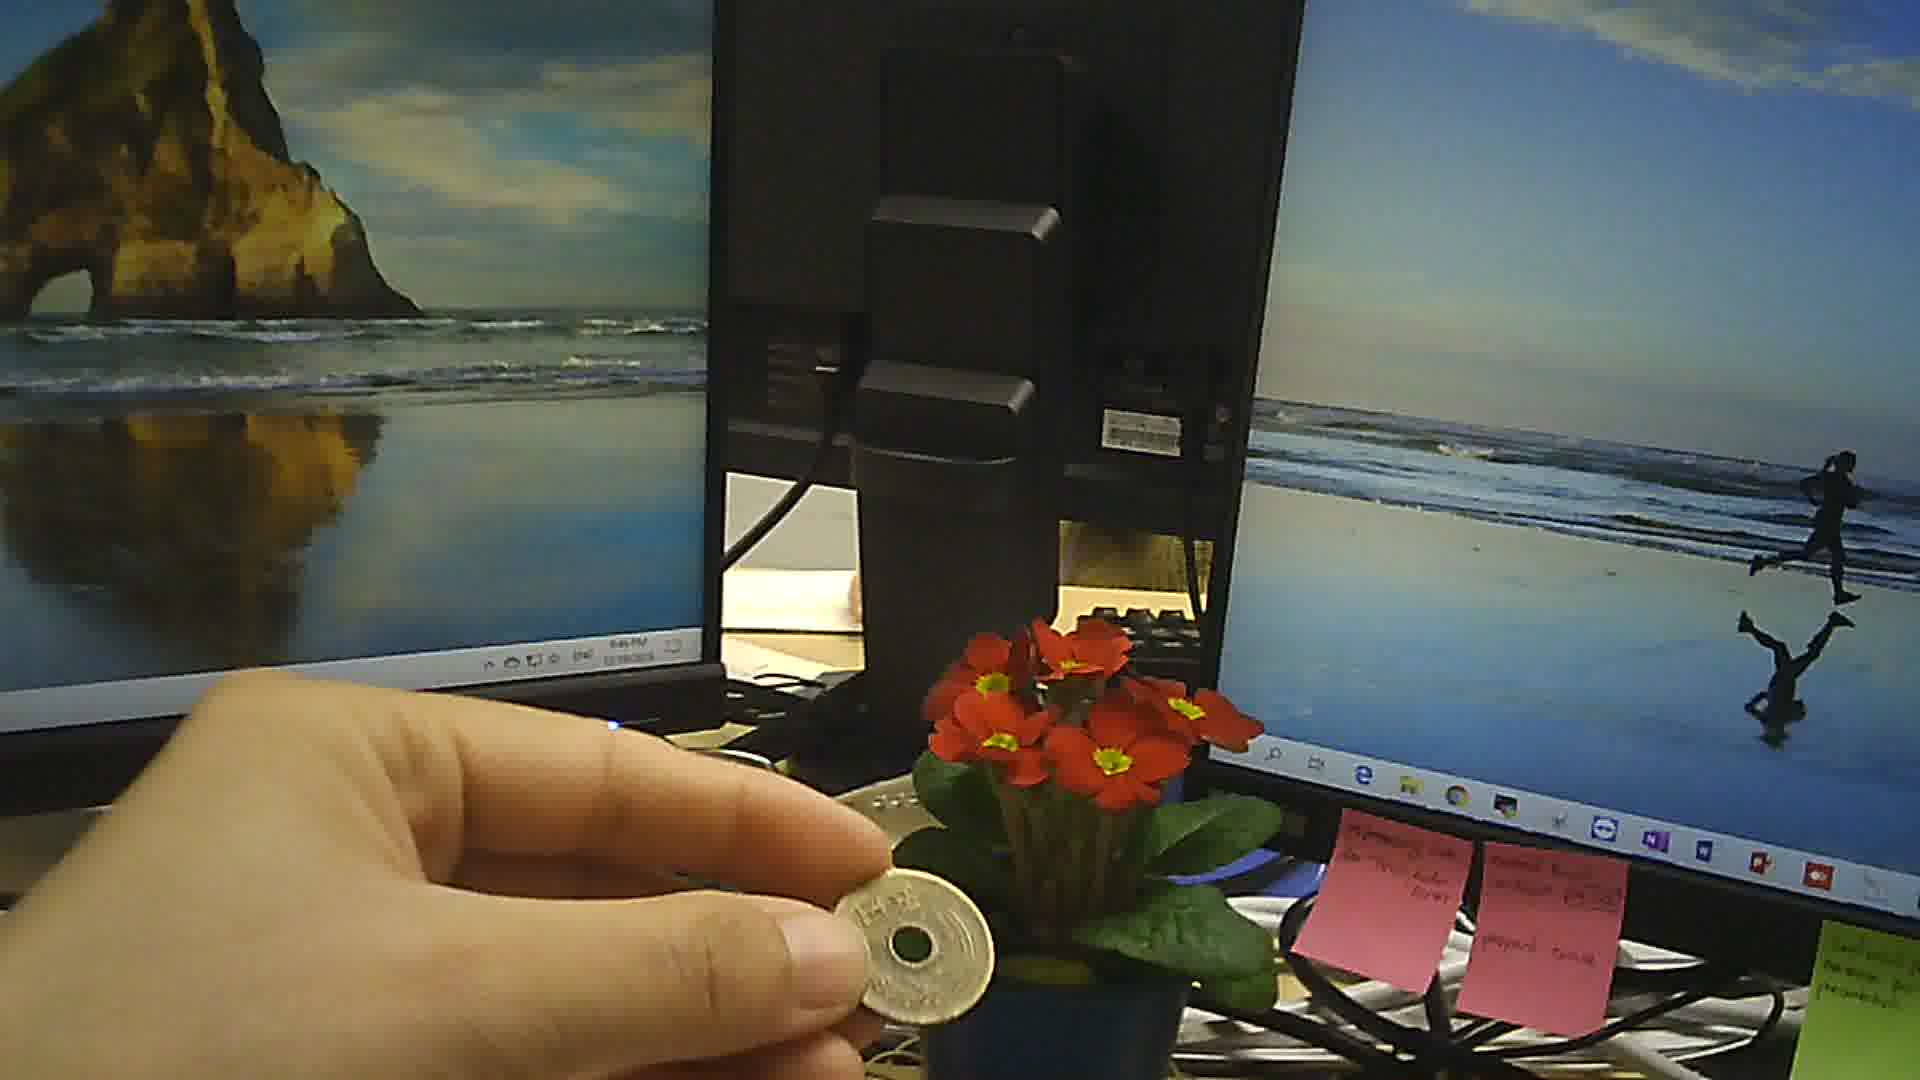5 Yen: (814, 865, 1005, 1042)
